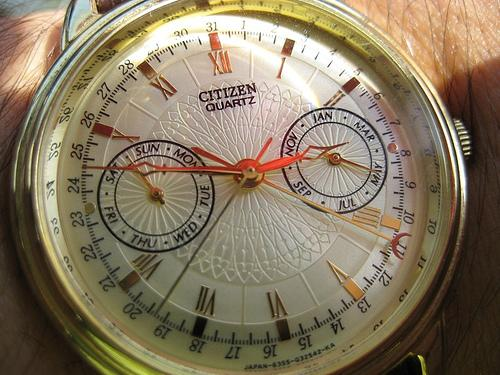watch: (15, 6, 500, 375)
